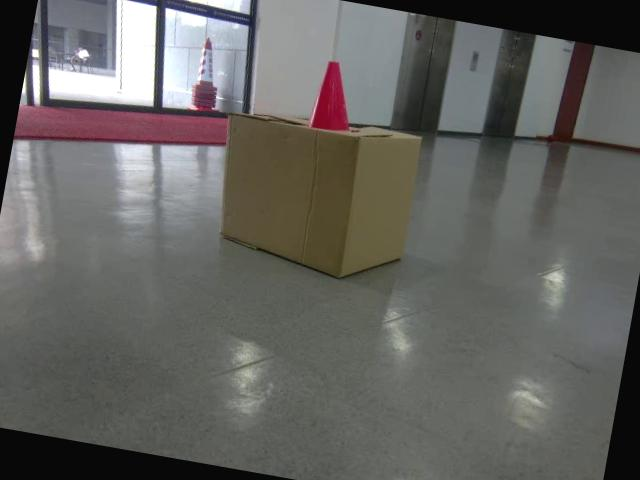red_barrel: (306, 59, 359, 134)
